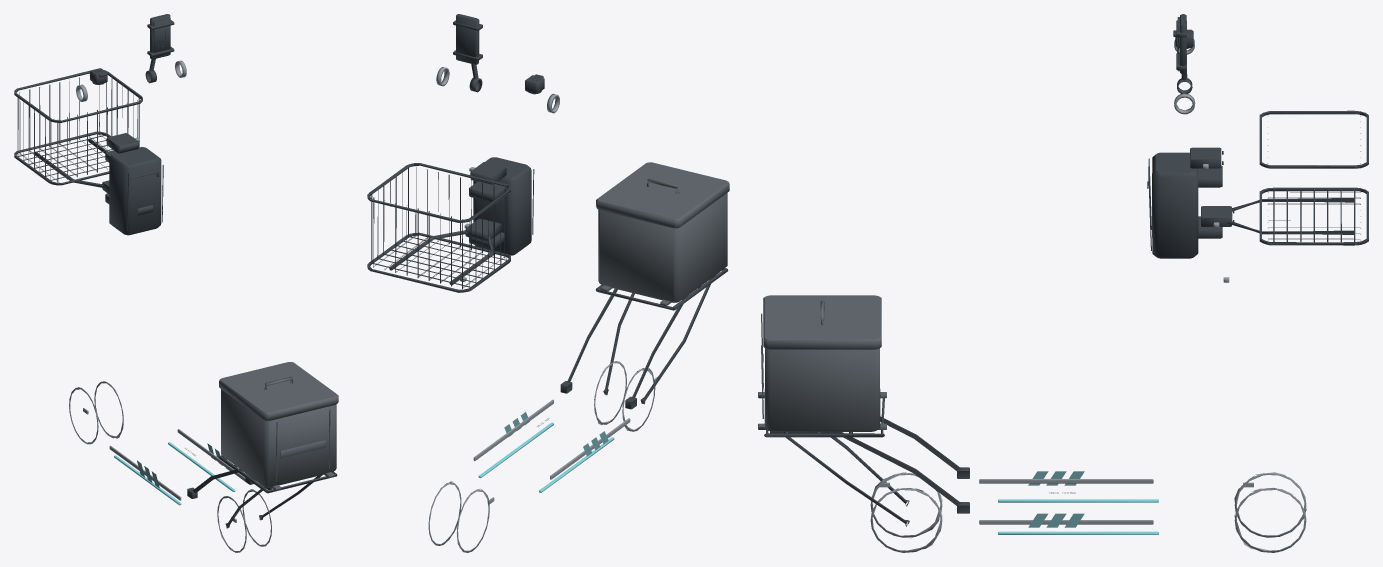
File: extras.glb
3 renders of one model, left to right at view 1: azimuth 30°, elevation 25°; view 2: azimuth 150°, elevation 25°; view 3: azimuth 270°, elevation 25°, orthographic. The views are drawn at different scales.
Parts seen in each view (by area): view 1: SX_delivery, SX_basket, SX_stem_bag, SX_rack, SX_phone_mount, SX_trim_black_deck, SX_light_amber, SX_trim_black_front, SX_trim_black_rear; view 2: SX_delivery, SX_basket, SX_stem_bag, SX_rack, SX_phone_mount, SX_trim_black_deck, SX_light_amber, SX_trim_black_front, SX_trim_black_rear, SX_trim_black_grip; view 3: SX_delivery, SX_basket, SX_stem_bag, SX_rack, SX_trim_black_deck, SX_light_amber, SX_trim_black_front, SX_trim_black_rear, SX_stripes, SX_phone_mount.
Boxes of the visible parts, x1,y1,x2,y2 form: SX_delivery: [219, 362, 338, 490]; SX_basket: [14, 70, 142, 193]; SX_stem_bag: [105, 147, 163, 235]; SX_rack: [187, 455, 337, 528]; SX_phone_mount: [145, 14, 174, 83]; SX_trim_black_deck: [83, 408, 245, 522]; SX_light_amber: [114, 442, 235, 505]; SX_trim_black_front: [69, 381, 123, 444]; SX_trim_black_rear: [217, 489, 271, 552]; SX_delivery: [596, 162, 729, 306]; SX_basket: [367, 162, 510, 292]; SX_stem_bag: [469, 157, 534, 255]; SX_rack: [560, 268, 728, 409]; SX_phone_mount: [453, 14, 482, 92]; SX_trim_black_deck: [473, 376, 658, 504]; SX_light_amber: [478, 422, 614, 492]; SX_trim_black_front: [428, 481, 489, 552]; SX_trim_black_rear: [594, 361, 655, 431]; SX_trim_black_grip: [436, 67, 559, 281]; SX_delivery: [758, 295, 886, 431]; SX_basket: [1190, 110, 1368, 245]; SX_stem_bag: [1147, 152, 1222, 258]; SX_rack: [764, 398, 969, 526]; SX_trim_black_deck: [880, 479, 1253, 524]; SX_light_amber: [998, 499, 1158, 534]; SX_trim_black_front: [1234, 472, 1306, 552]; SX_trim_black_rear: [870, 472, 942, 552]; SX_stripes: [1028, 471, 1084, 527]; SX_phone_mount: [1176, 14, 1192, 93].
Size of the model in its own units: 0.3619 by 1.49 by 1.51.
